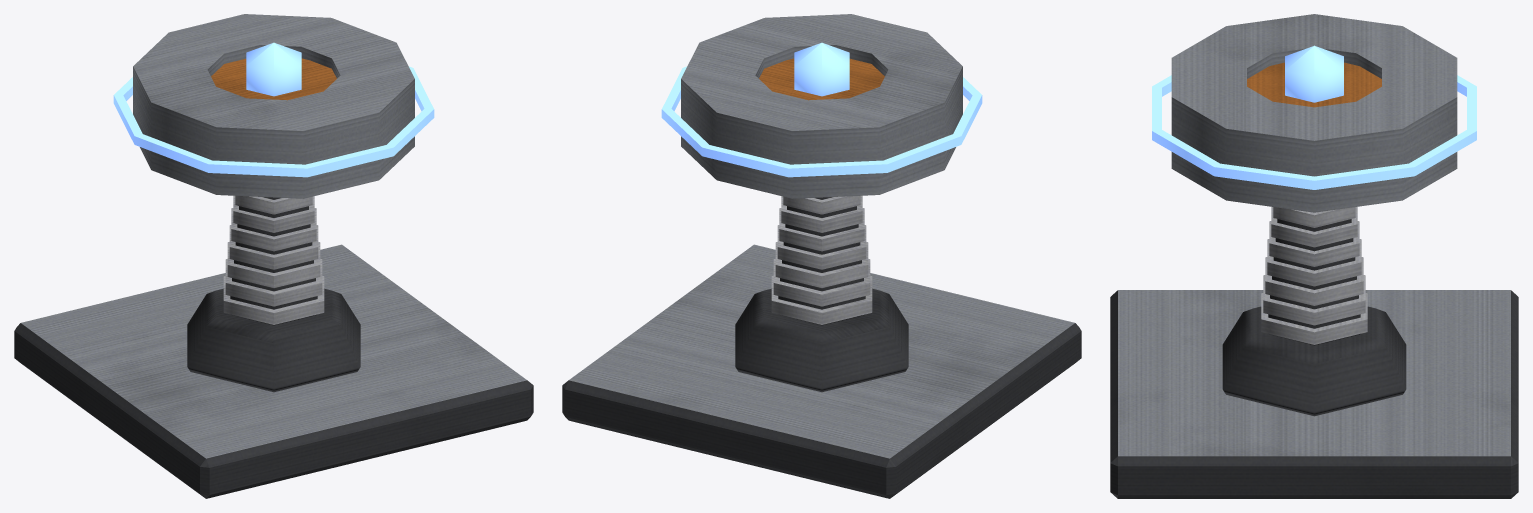
Rendered from R4X_AreaEMP_LOD1.glb.
3 renders of one model, left to right at view 1: azimuth 30°, elevation 25°; view 2: azimuth 150°, elevation 25°; view 3: azimuth 270°, elevation 25°, orthographic. The views are drawn at different scales.
Visible parts, largest first — view 1: R4X_AreaEMP_LOD1; view 2: R4X_AreaEMP_LOD1; view 3: R4X_AreaEMP_LOD1.
Part boxes in pixels (<box>): R4X_AreaEMP_LOD1: <box>14,14,533,498</box>; R4X_AreaEMP_LOD1: <box>562,14,1081,498</box>; R4X_AreaEMP_LOD1: <box>1110,14,1518,498</box>.
Bounding box in the file's own units: 0.52 × 0.52 × 0.52.
5 materials, 4 textured.
